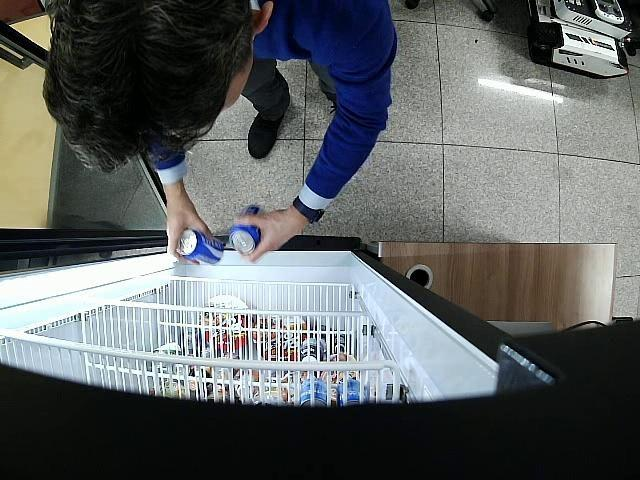13_pocariSweat: (176, 229, 224, 264), (230, 206, 264, 255)
